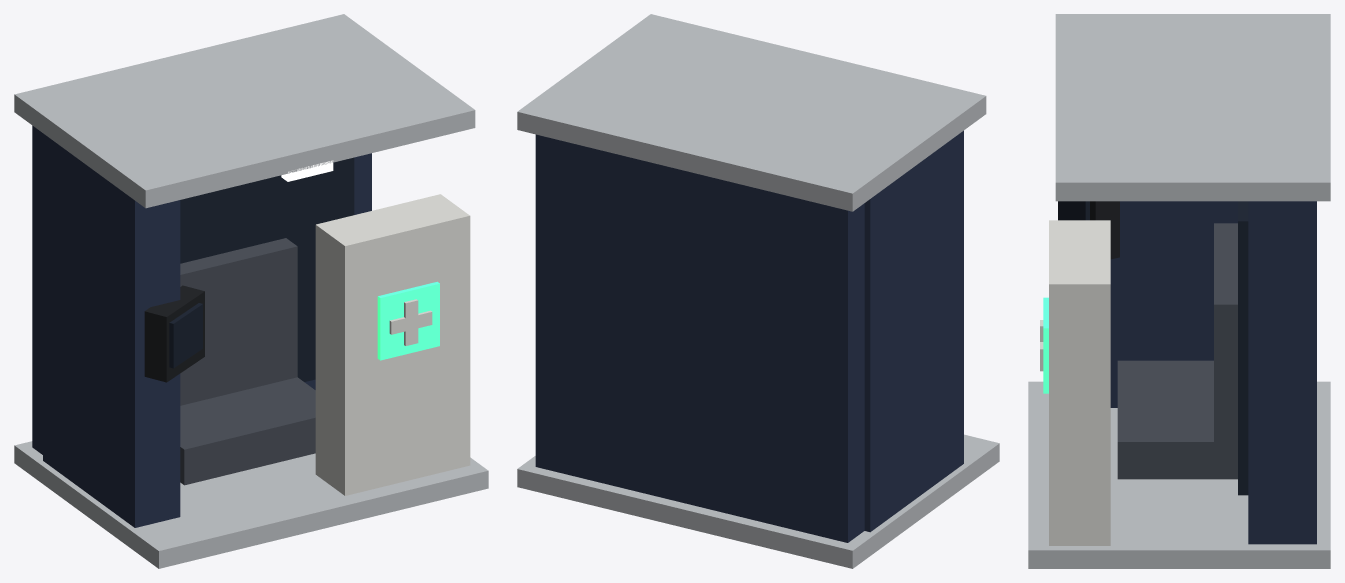
File: cabin-storm-shelter.glb
3 views of the same model, side by side, from view 1: azimuth 30°, elevation 25°; view 2: azimuth 150°, elevation 25°; view 3: azimuth 270°, elevation 25° (orthographic). The views are drawn at different scales.
Visible parts, largest first — view 1: CabinStormShelter_Aluminum, CabinStormShelter_Pack, CabinStormShelter_Hull, CabinStormShelter_Strap, CabinStormShelter_Visor, CabinStormShelter_LedGreen, CabinStormShelter_HullBlack; view 2: CabinStormShelter_Pack, CabinStormShelter_Aluminum; view 3: CabinStormShelter_Aluminum, CabinStormShelter_Pack, CabinStormShelter_Hull, CabinStormShelter_Strap, CabinStormShelter_Visor, CabinStormShelter_HullBlack, CabinStormShelter_LedGreen.
Boxes of the visible parts, x1=… form: CabinStormShelter_Aluminum: x1=14, y1=14, x2=488, y2=568; CabinStormShelter_Pack: x1=32, y1=125, x2=371, y2=527; CabinStormShelter_Hull: x1=315, y1=194, x2=470, y2=495; CabinStormShelter_Strap: x1=180, y1=238, x2=315, y2=485; CabinStormShelter_Visor: x1=169, y1=157, x2=354, y2=381; CabinStormShelter_LedGreen: x1=377, y1=281, x2=439, y2=360; CabinStormShelter_HullBlack: x1=144, y1=285, x2=204, y2=382; CabinStormShelter_Pack: x1=535, y1=130, x2=963, y2=542; CabinStormShelter_Aluminum: x1=517, y1=14, x2=999, y2=568; CabinStormShelter_Aluminum: x1=1028, y1=14, x2=1330, y2=568; CabinStormShelter_Pack: x1=1110, y1=201, x2=1316, y2=544; CabinStormShelter_Hull: x1=1040, y1=220, x2=1110, y2=545; CabinStormShelter_Strap: x1=1117, y1=223, x2=1237, y2=479; CabinStormShelter_Visor: x1=1058, y1=201, x2=1248, y2=495; CabinStormShelter_HullBlack: x1=1090, y1=201, x2=1119, y2=259; CabinStormShelter_LedGreen: x1=1043, y1=297, x2=1048, y2=393.
Bounding box in the file's own units: 0.58 × 0.62 × 0.44.
